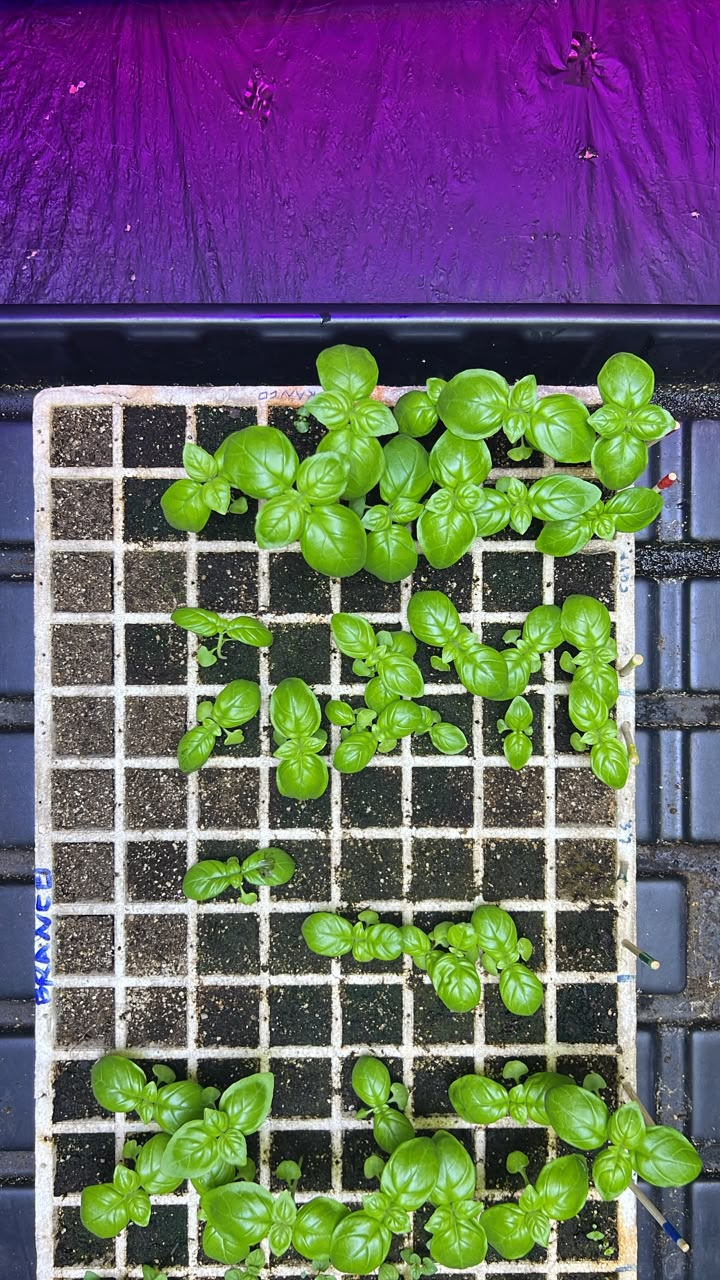Folha: (168, 584, 274, 668), (297, 341, 416, 415), (179, 843, 299, 906), (448, 1072, 500, 1124), (300, 911, 357, 958), (170, 606, 244, 636), (214, 614, 274, 649), (430, 720, 468, 753), (60, 1270, 108, 1280), (141, 1263, 160, 1279), (430, 655, 447, 671), (240, 890, 256, 904), (224, 1269, 238, 1279)
Germinacao: (109, 320, 720, 608), (278, 1024, 577, 1218), (168, 603, 275, 789), (305, 610, 495, 707), (396, 898, 542, 1019), (181, 845, 295, 912), (432, 874, 474, 899), (586, 1229, 613, 1257), (571, 1000, 598, 1025), (287, 1003, 312, 1030), (350, 995, 370, 1021), (425, 782, 445, 806), (416, 848, 436, 870), (385, 853, 405, 875), (139, 633, 159, 653), (340, 878, 360, 898), (582, 919, 602, 939)
